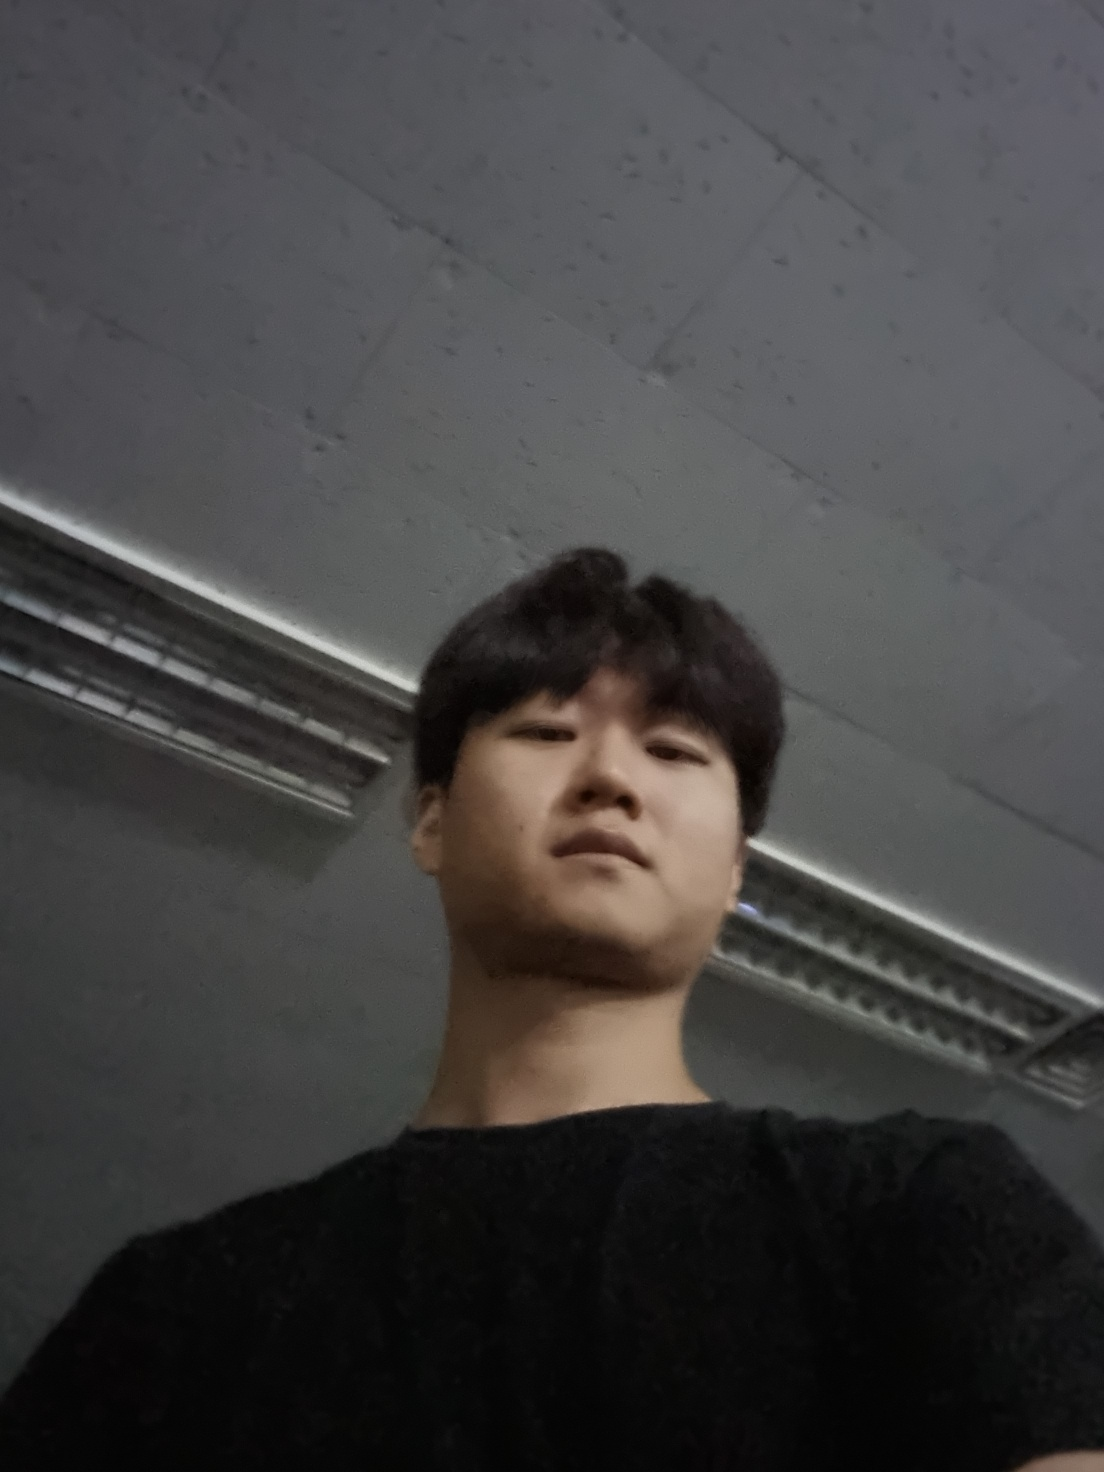Non-Helmet: (357, 524, 807, 1010)
